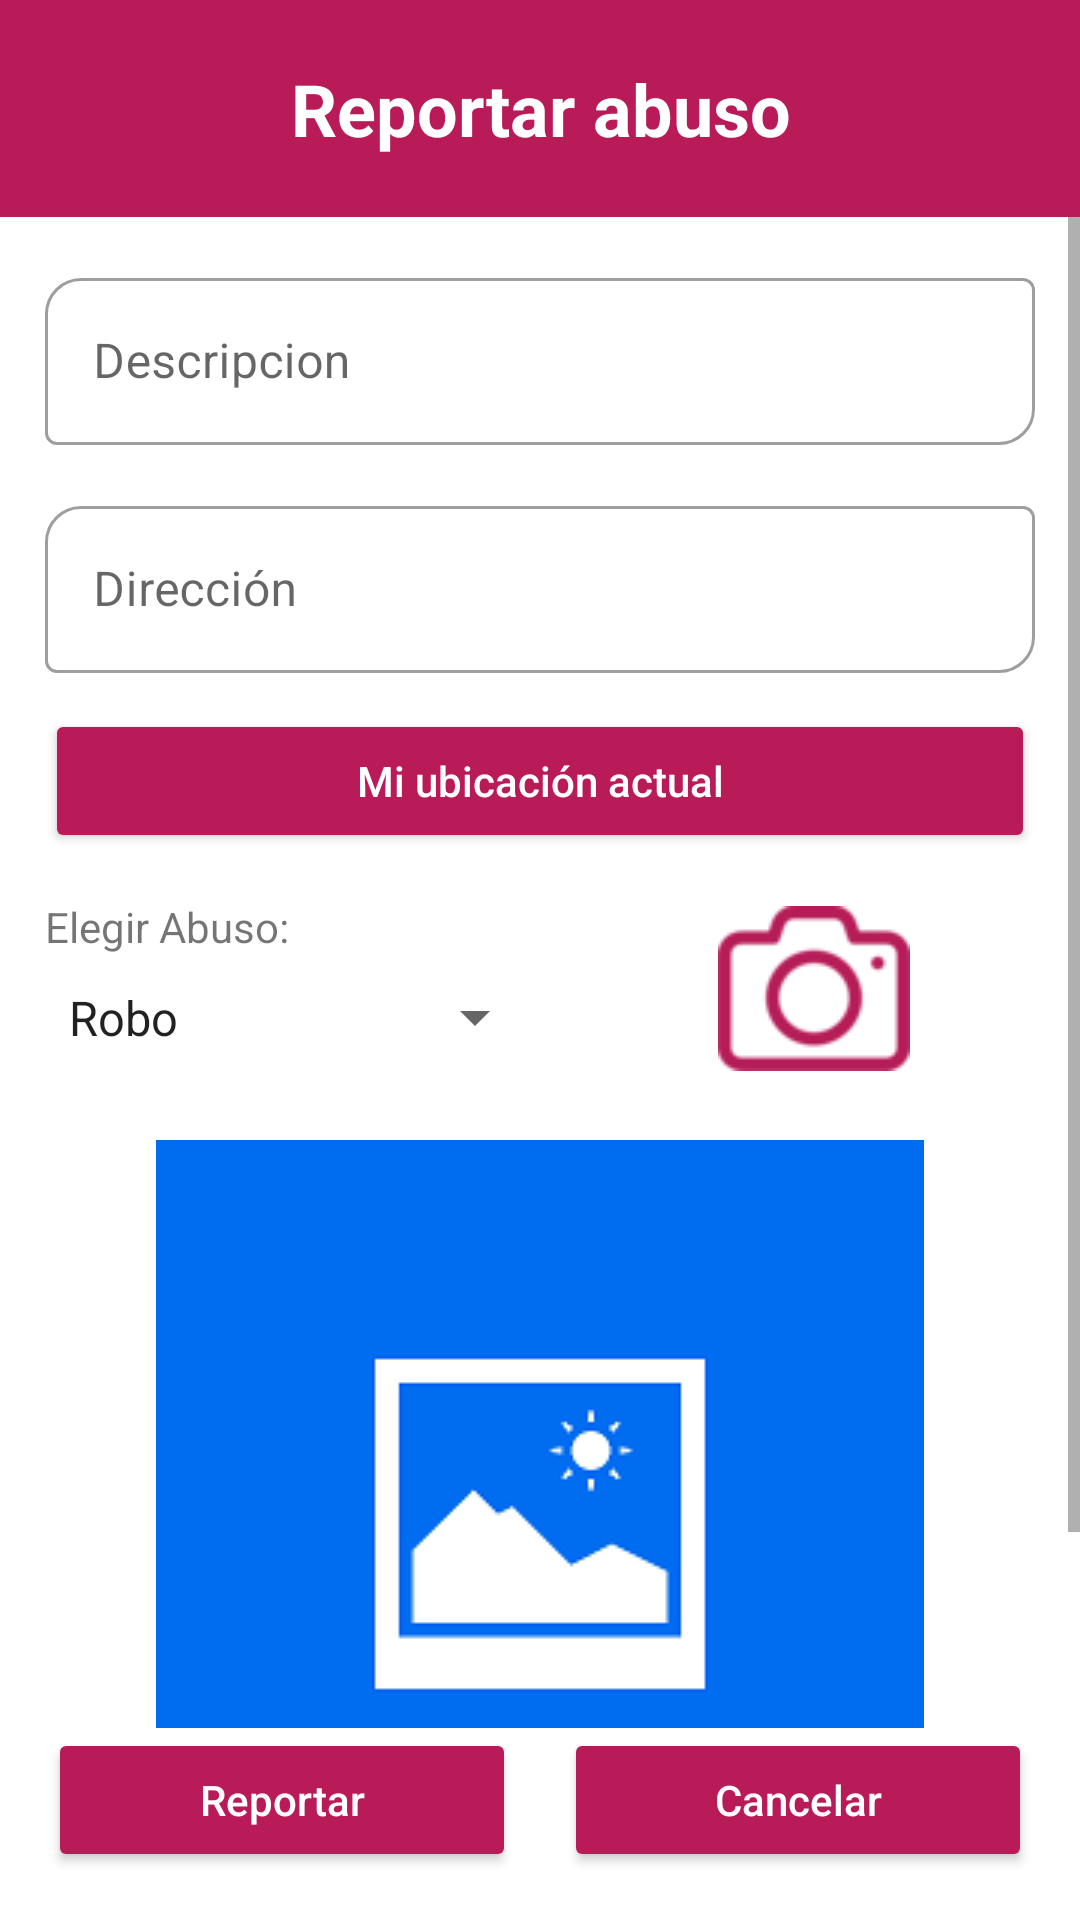

Where to tap for icons on this 1080 x 1920 app screen, as (x=x, y=y):
camara: (x=814, y=988)
